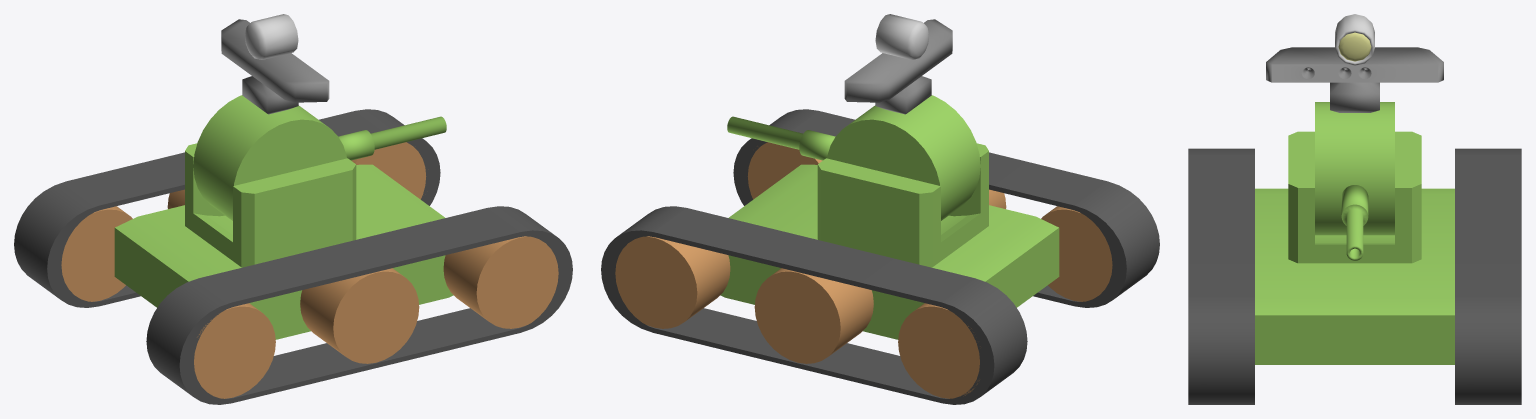
Rendered from tank3.dae.
3 renders of one model, left to right at view 1: azimuth 30°, elevation 25°; view 2: azimuth 150°, elevation 25°; view 3: azimuth 270°, elevation 25°, orthographic.
Visible parts, largest first — view 1: CRAWLER_R, CHASSIS, TURRET_Y, CRAWLER_L, TURRET_P, WHEEL_R1, WHEEL_R0, WHEEL_R2, CAMERA, WHEEL_L2, BURREL, WHEEL_L0 (+1 smaller); view 2: CRAWLER_L, CHASSIS, TURRET_Y, CRAWLER_R, TURRET_P, WHEEL_L1, WHEEL_L0, WHEEL_L2, CAMERA, WHEEL_R2, BURREL, WHEEL_R0 (+1 smaller); view 3: CHASSIS, CRAWLER_L, CRAWLER_R, TURRET_P, TURRET_Y, CAMERA, BURREL, LIGHT_FRAME, LIGHT_MAIN.
Boxes of the visible parts, bbox=[...] form: CRAWLER_R: bbox=[146, 206, 572, 404]; CHASSIS: bbox=[114, 164, 453, 339]; TURRET_Y: bbox=[185, 143, 356, 267]; CRAWLER_L: bbox=[14, 109, 440, 307]; TURRET_P: bbox=[193, 95, 346, 220]; WHEEL_R1: bbox=[300, 268, 419, 363]; WHEEL_R0: bbox=[443, 236, 558, 328]; WHEEL_R2: bbox=[194, 303, 275, 398]; CAMERA: bbox=[221, 19, 329, 114]; WHEEL_L2: bbox=[61, 206, 132, 301]; BURREL: bbox=[338, 116, 446, 160]; WHEEL_L0: bbox=[351, 142, 426, 199]; CRAWLER_L: bbox=[601, 206, 1027, 404]; CHASSIS: bbox=[720, 164, 1059, 339]; TURRET_Y: bbox=[817, 143, 988, 267]; CRAWLER_R: bbox=[733, 109, 1159, 307]; TURRET_P: bbox=[827, 95, 980, 220]; WHEEL_L1: bbox=[754, 268, 873, 363]; WHEEL_L0: bbox=[615, 236, 730, 328]; WHEEL_L2: bbox=[898, 303, 980, 398]; CAMERA: bbox=[844, 19, 952, 114]; WHEEL_R2: bbox=[1041, 206, 1112, 301]; BURREL: bbox=[727, 116, 835, 160]; WHEEL_R0: bbox=[747, 142, 822, 199]; CHASSIS: bbox=[1255, 188, 1454, 364]; CRAWLER_L: bbox=[1455, 148, 1521, 404]; CRAWLER_R: bbox=[1188, 148, 1254, 404]; TURRET_P: bbox=[1315, 102, 1394, 235]; TURRET_Y: bbox=[1288, 131, 1421, 263]; CAMERA: bbox=[1266, 47, 1443, 112]; BURREL: bbox=[1341, 185, 1368, 260]; LIGHT_FRAME: bbox=[1335, 14, 1374, 65]; LIGHT_MAIN: bbox=[1338, 32, 1371, 61].
Bounding box in the file's own units: 0.686 × 0.5 × 0.489.
